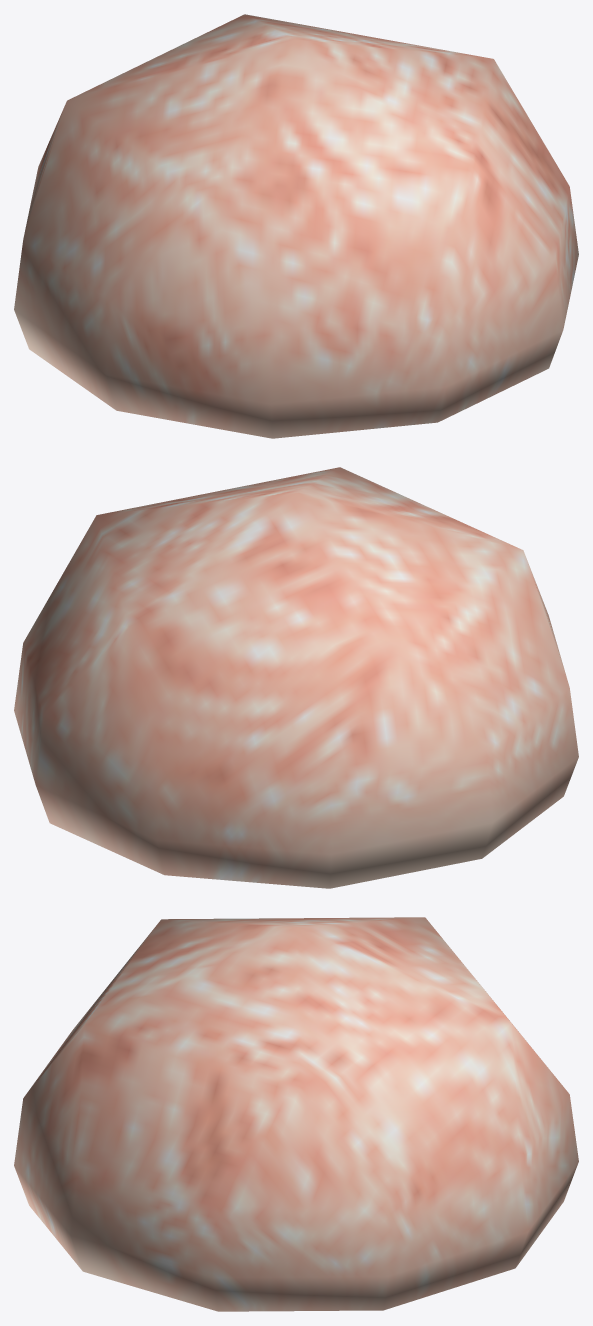
File: MincedMeatVan.fbx
The picture shows the model from 3 angles, top to bottom: view 1: azimuth 30°, elevation 25°; view 2: azimuth 150°, elevation 25°; view 3: azimuth 270°, elevation 25°; orthographic projection. The views are drawn at different scales.
Visible parts, largest first — view 1: MincedMeat; view 2: MincedMeat; view 3: MincedMeat.
Boxes of the visible parts, x1,y1,x2,y2 form: MincedMeat: [14, 14, 578, 438]; MincedMeat: [14, 467, 578, 888]; MincedMeat: [14, 917, 578, 1311].
Bounding box in the file's own units: 26.45 × 14.89 × 27.66.
